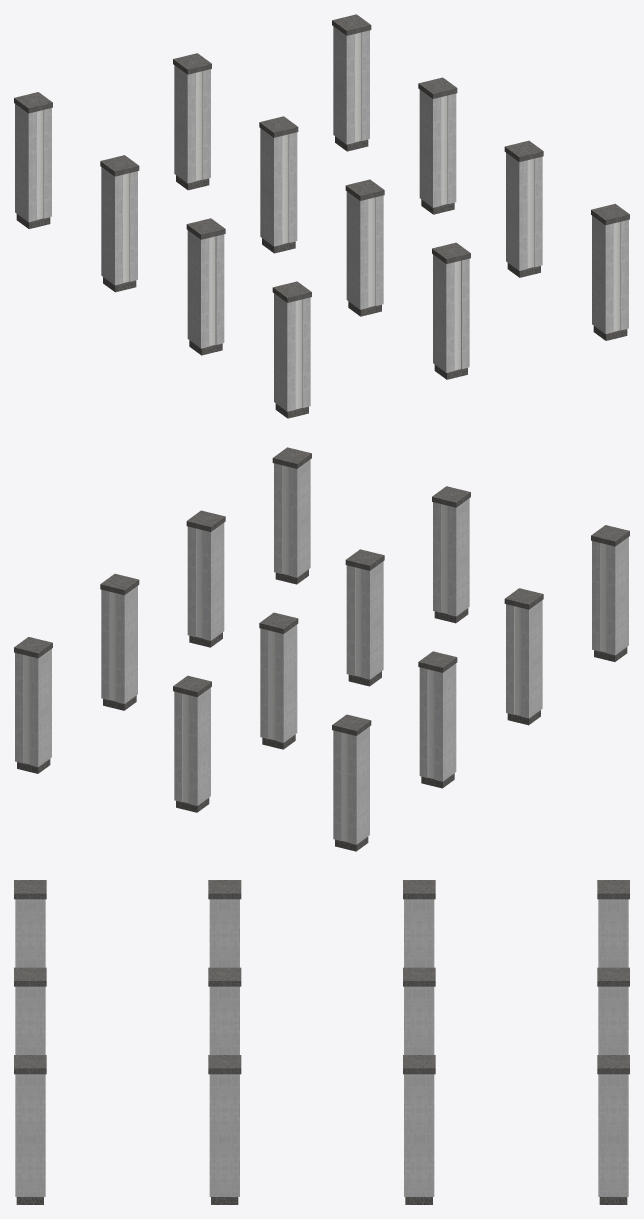
The model's file is Subway03_InterCalumn.FBX.
3 renders of one model, top to bottom at view 1: azimuth 30°, elevation 25°; view 2: azimuth 150°, elevation 25°; view 3: azimuth 270°, elevation 25°, orthographic. The views are drawn at different scales.
Parts seen in each view (by area): view 1: Subway03_InterCalumn01, Subway03_InterCalumn02; view 2: Subway03_InterCalumn01, Subway03_InterCalumn02; view 3: Subway03_InterCalumn01, Subway03_InterCalumn02.
Boxes of the visible parts, <box> form: Subway03_InterCalumn01: <box>15,26,628,418</box>; Subway03_InterCalumn02: <box>14,14,629,302</box>; Subway03_InterCalumn01: <box>15,459,628,851</box>; Subway03_InterCalumn02: <box>14,447,629,735</box>; Subway03_InterCalumn01: <box>15,899,628,1204</box>; Subway03_InterCalumn02: <box>14,880,629,1074</box>.
Size of the model in its own units: 17661 by 6005 by 24407.
